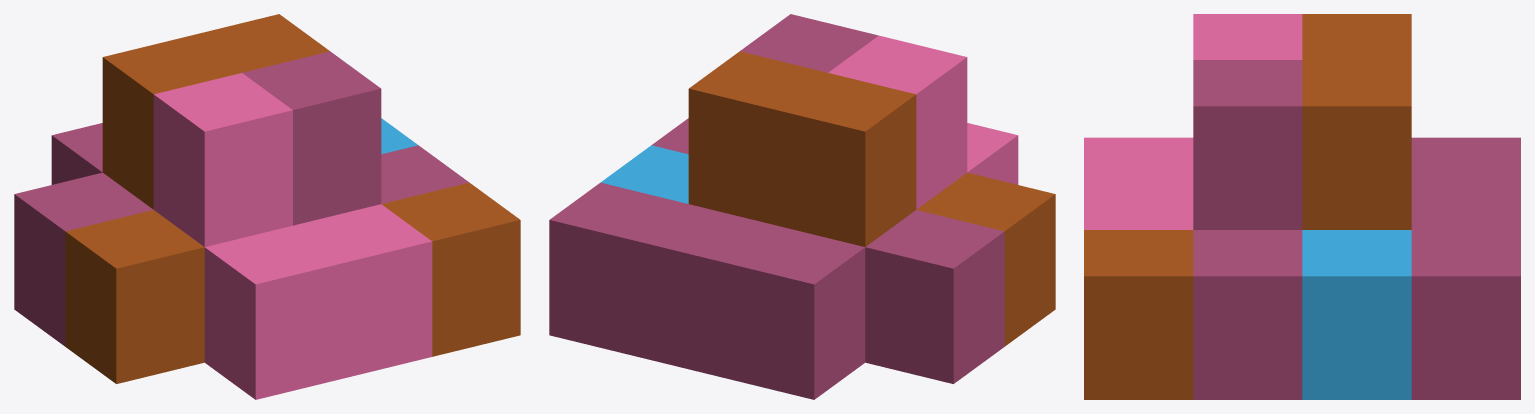
File: DesertStackSmall.obj
3 renders of one model, left to right at view 1: azimuth 30°, elevation 25°; view 2: azimuth 150°, elevation 25°; view 3: azimuth 270°, elevation 25°, orthographic. The views are drawn at different scales.
Parts seen in each view (by area): view 1: DesertStackSmall; view 2: DesertStackSmall; view 3: DesertStackSmall.
Part boxes in pixels (box(x1,y1,x2,y2)): DesertStackSmall: box(14, 14, 520, 399); DesertStackSmall: box(549, 14, 1055, 399); DesertStackSmall: box(1084, 14, 1520, 399).
Size of the model in its own units: 8 by 5 by 8.
